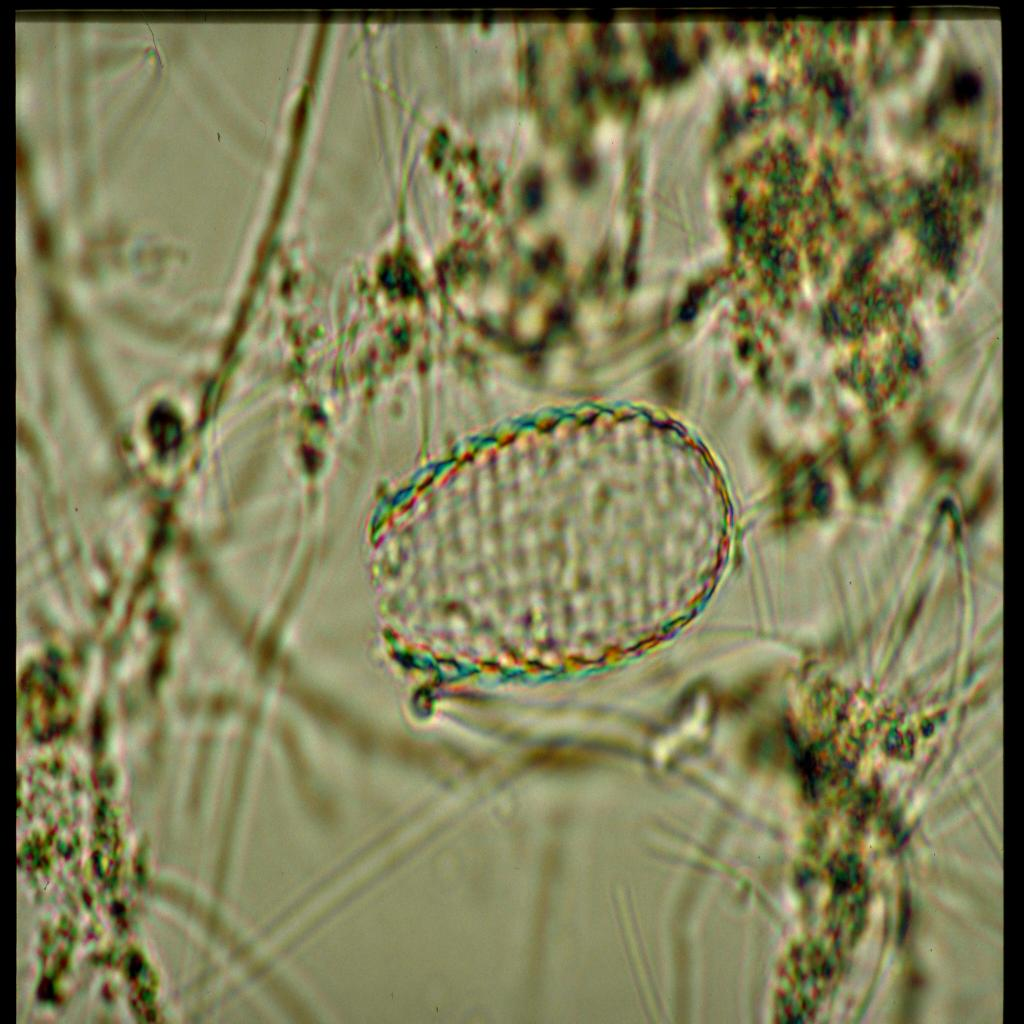Euglypha: (358, 386, 744, 712)
